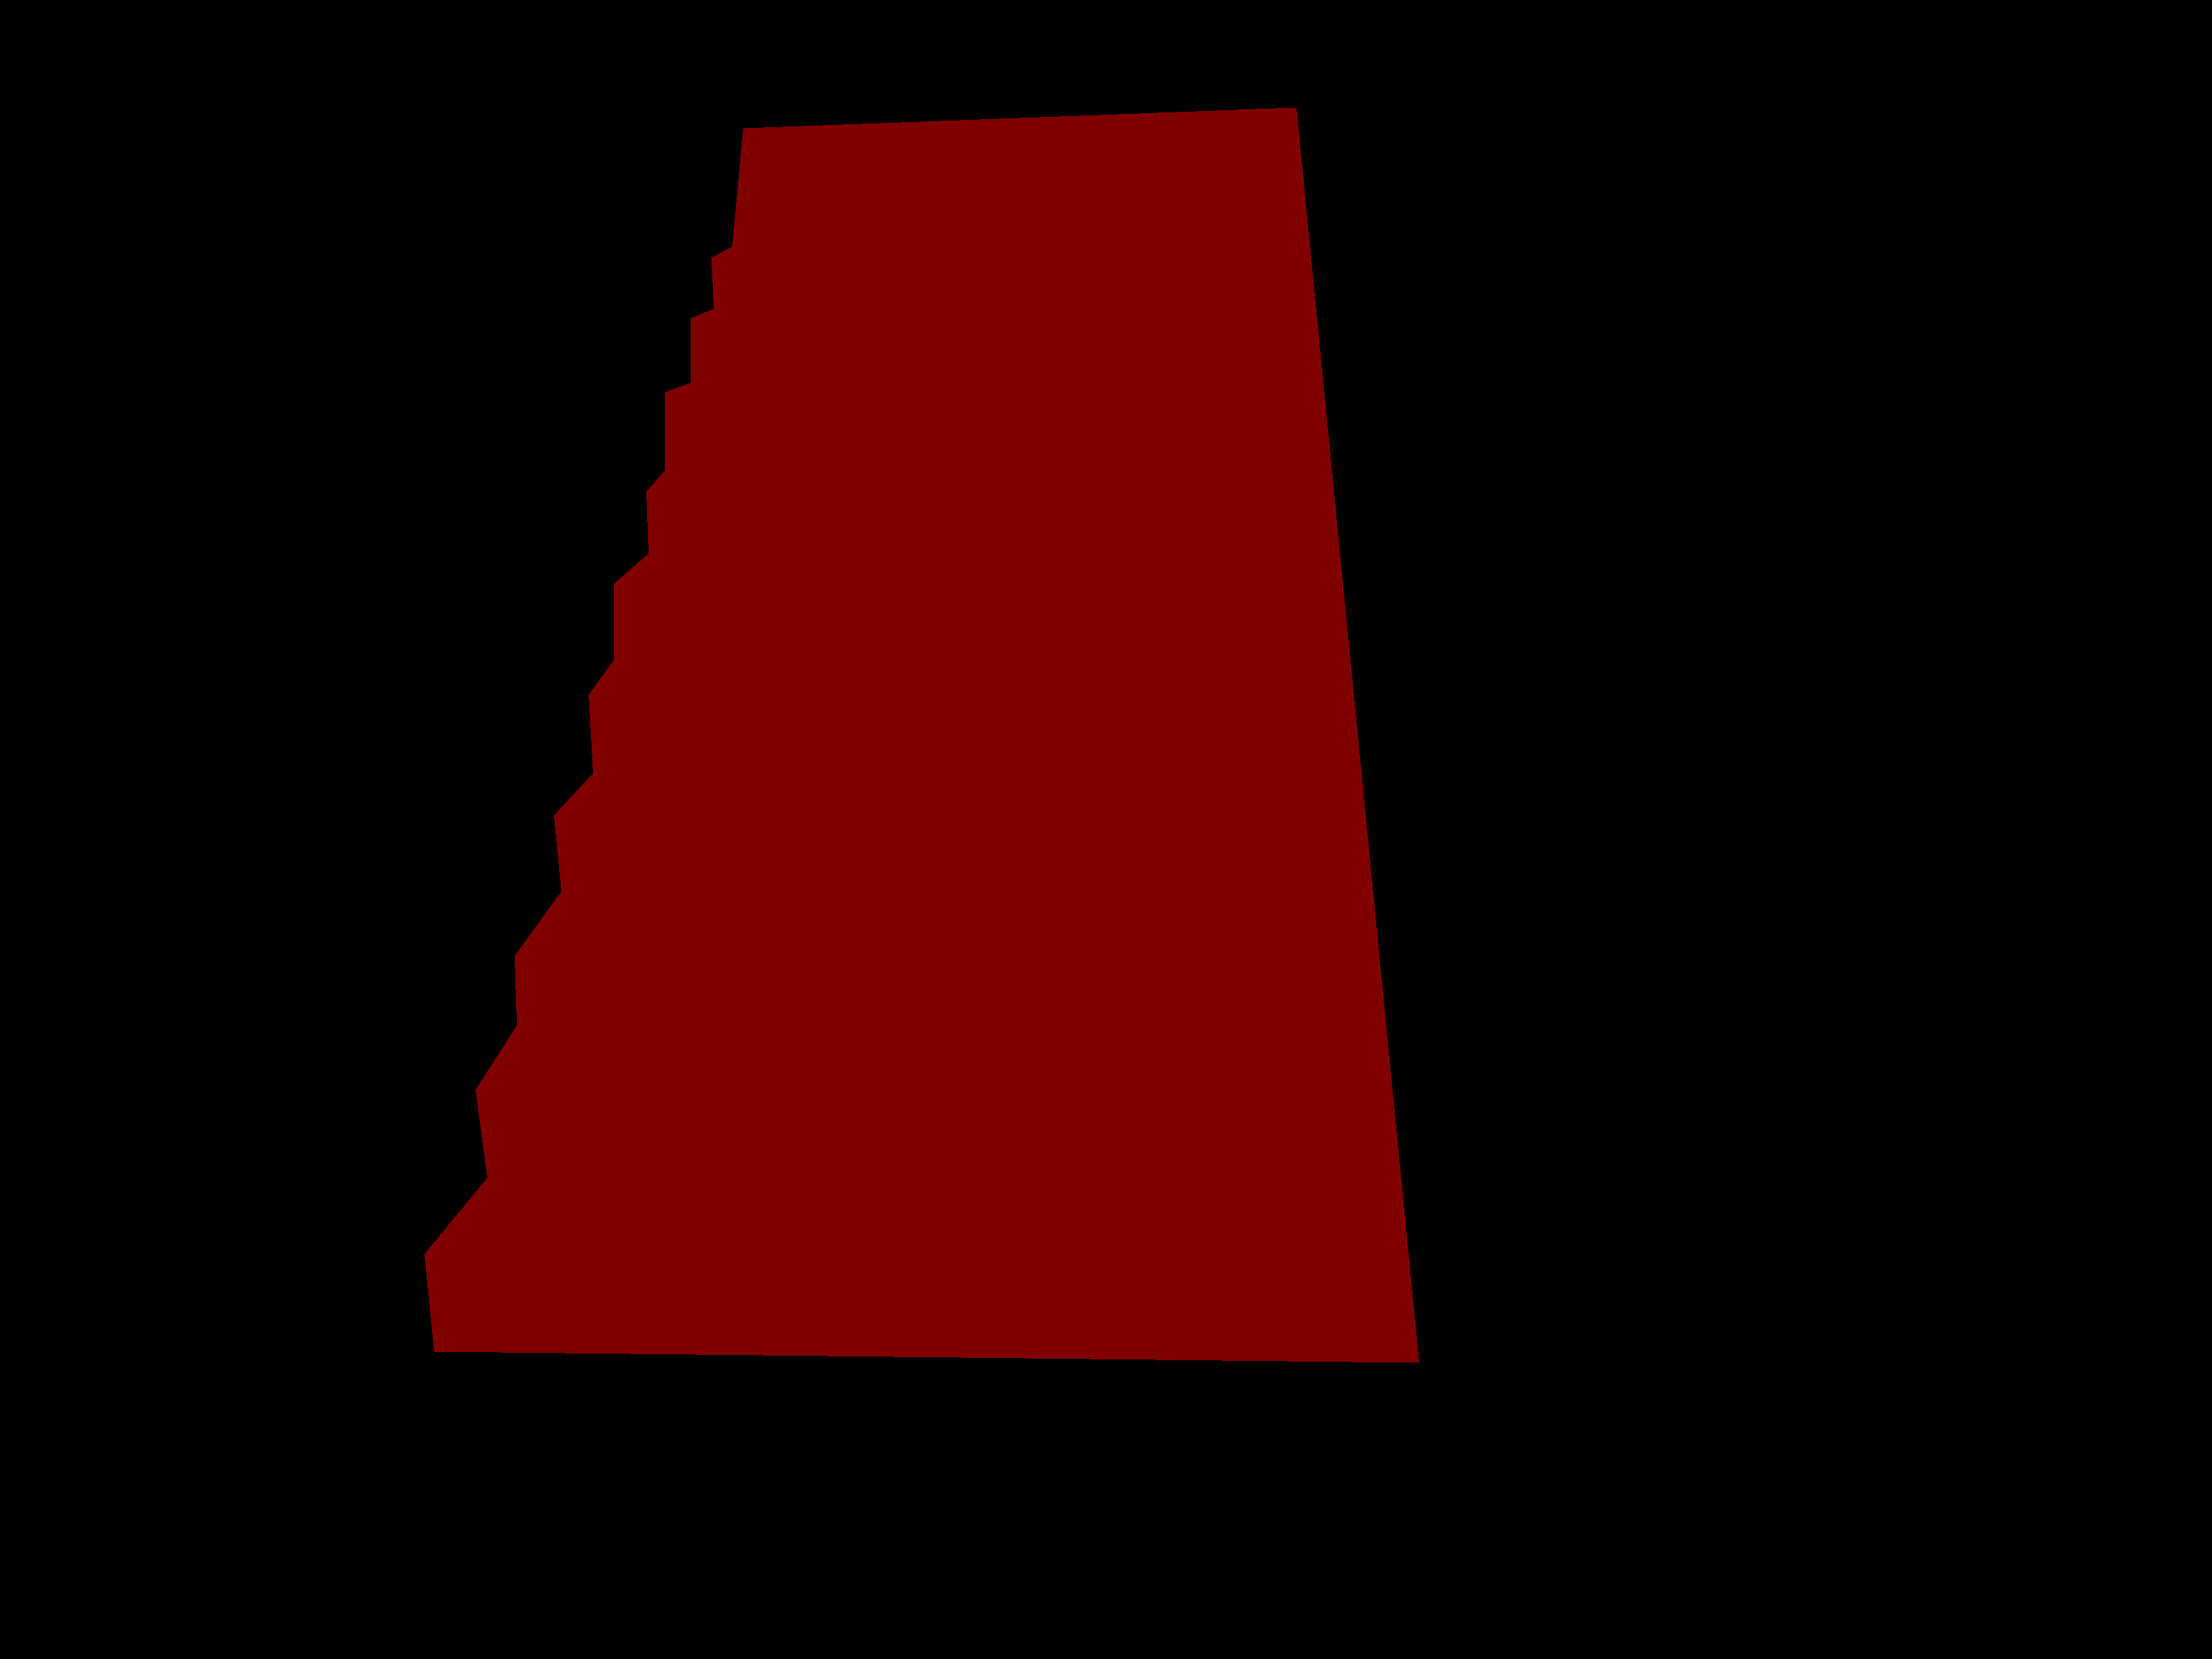stair: (425, 108, 1418, 1363)
